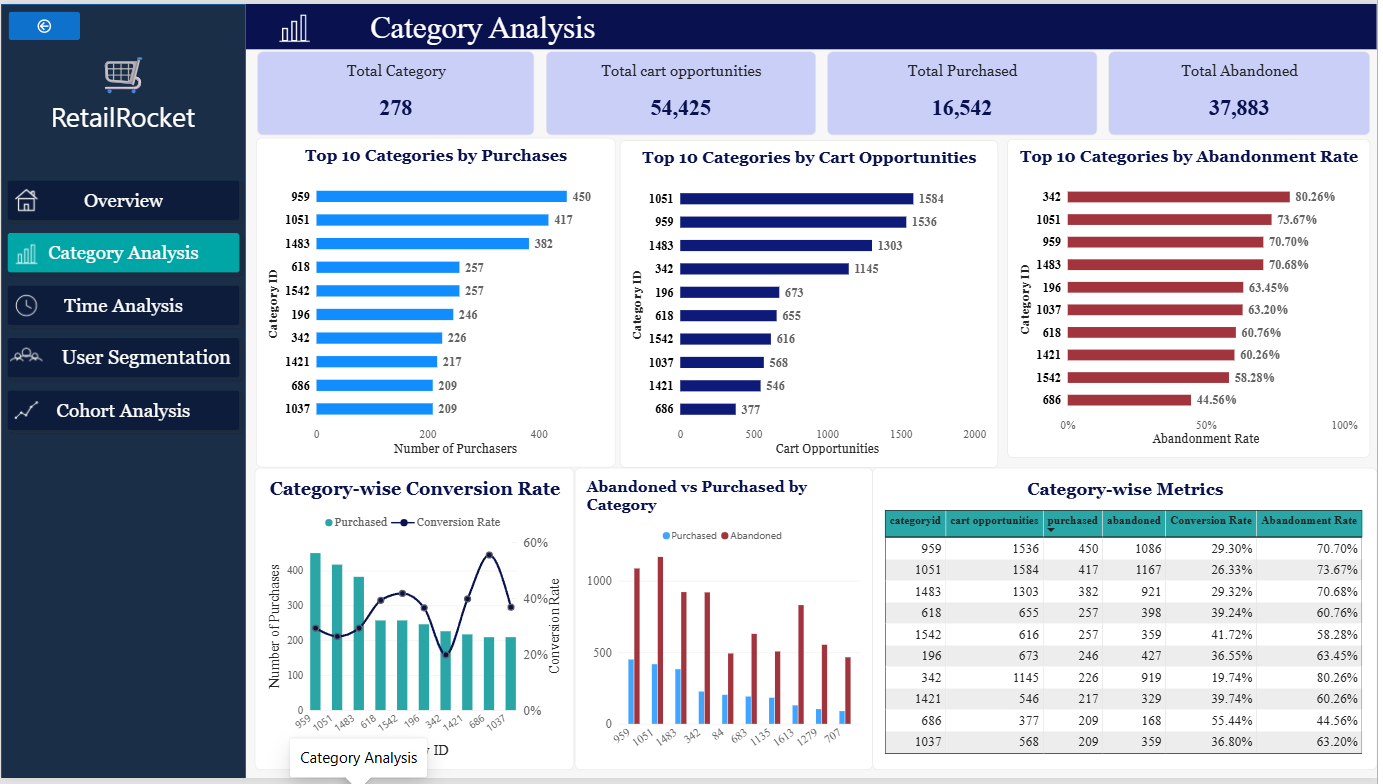

Layout of this report page (visuals, bound fields, positions):
{"tool":"powerbi","page":{"name":"Category Analysis","canvas":[1920,1080],"ordinal":1},"visuals":[{"type":"shape","box":[0,0,341.9,1081.4],"z":0},{"type":"textbox","title":"Category Analysis","box":[342.2,0,1577.8,63],"z":0,"group":"g1"},{"type":"image","box":[355.4,0,105.8,63],"z":1000,"group":"g1"},{"type":"actionButton","box":[0,237.2,341.9,73.3],"z":1000},{"type":"actionButton","box":[0,310.5,341.9,73.3],"z":2000},{"type":"actionButton","box":[0,383.7,341.9,73.3],"z":3000},{"type":"actionButton","box":[0,457,341.9,73.3],"z":4000},{"type":"actionButton","box":[0,530.2,341.9,73.3],"z":5000},{"type":"textbox","box":[29.7,41.9,280.8,177.9],"z":6000},{"type":"group","id":"g1","title":"Group 1","box":[342.2,0,1577.8,63],"z":7000},{"type":"card","title":"Total Category","fields":{"Values":["Count(Category.categoryid)"]},"box":[358.3,66.7,386.7,116.7],"z":8000},{"type":"card","title":"Total cart opportunities","fields":{"Values":["Sum(Category.cart_opportunities)"]},"box":[760,66.7,376.7,116.7],"z":9000},{"type":"card","title":"Total Purchased","fields":{"Values":["Sum(Category.purchased)"]},"box":[1153.3,66.7,376.7,116.7],"z":10000},{"type":"card","title":"Total Abandoned","fields":{"Values":["Sum(Category.abandoned)"]},"box":[1545,66.7,365,116.7],"z":11000},{"type":"clusteredBarChart","title":"Top 10 Categories by Purchases","fields":{"Category":["Category.categoryid"],"Y":["Sum(Category.purchased)"]},"box":[355,186.7,501.7,460],"z":12000},{"type":"lineClusteredColumnComboChart","title":"Category-wise Conversion Rate","fields":{"Category":["Category.categoryid"],"Y":["Sum(Category.purchased)"],"Y2":["Category.Category Conversion Rate"]},"box":[354.1,646.4,445.9,421.5],"z":13000},{"type":"clusteredBarChart","title":"Top 10 Categories by Cart Opportunities","fields":{"Category":["Category.categoryid"],"Y":["Sum(Category.cart_opportunities)"]},"box":[863.3,190,528.3,456.7],"z":14000},{"type":"clusteredBarChart","title":"Top 10 Categories by Abandonment Rate","fields":{"Category":["Category.categoryid"],"Y":["Sum(Category.Abandonment_Rate_Pct)"]},"box":[1403.3,188.3,506.7,445],"z":15000},{"type":"clusteredColumnChart","title":"Abandoned vs Purchased by Category","fields":{"Category":["Category.categoryid"],"Y":["Sum(Category.purchased)","Sum(Category.abandoned)"]},"box":[800,646.4,415.9,421.5],"z":16000},{"type":"tableEx","title":"Category-wise Metrics","fields":{"Values":["Category.categoryid","Sum(Category.cart_opportunities)","Sum(Category.purchased)","Sum(Category.abandoned)","Category.Category Conversion Rate","Sum(Category.Abandonment_Rate_Pct)"]},"box":[1215,646.7,705,421.7],"z":17000},{"type":"actionButton","box":[10,10,100,40],"z":18000}]}

Visuals, with their boxes on the page's 1920x1080 design canvas (x1, y1, x2, y2). These are canvas units, not pixel positions in the 1383x784 screenshot, which may show the page scaled, cropped or inside an application window:
shape: 0, 0, 342, 1081
"Category Analysis" textbox: 342, 0, 1920, 63
image: 355, 0, 461, 63
actionButton: 0, 237, 342, 310
actionButton: 0, 310, 342, 384
actionButton: 0, 384, 342, 457
actionButton: 0, 457, 342, 530
actionButton: 0, 530, 342, 604
textbox: 30, 42, 310, 220
"Group 1" group: 342, 0, 1920, 63
"Total Category" card: 358, 67, 745, 183
"Total cart opportunities" card: 760, 67, 1137, 183
"Total Purchased" card: 1153, 67, 1530, 183
"Total Abandoned" card: 1545, 67, 1910, 183
"Top 10 Categories by Purchases" clusteredBarChart: 355, 187, 857, 647
"Category-wise Conversion Rate" lineClusteredColumnComboChart: 354, 646, 800, 1068
"Top 10 Categories by Cart Opportunities" clusteredBarChart: 863, 190, 1392, 647
"Top 10 Categories by Abandonment Rate" clusteredBarChart: 1403, 188, 1910, 633
"Abandoned vs Purchased by Category" clusteredColumnChart: 800, 646, 1216, 1068
"Category-wise Metrics" tableEx: 1215, 647, 1920, 1068
actionButton: 10, 10, 110, 50
